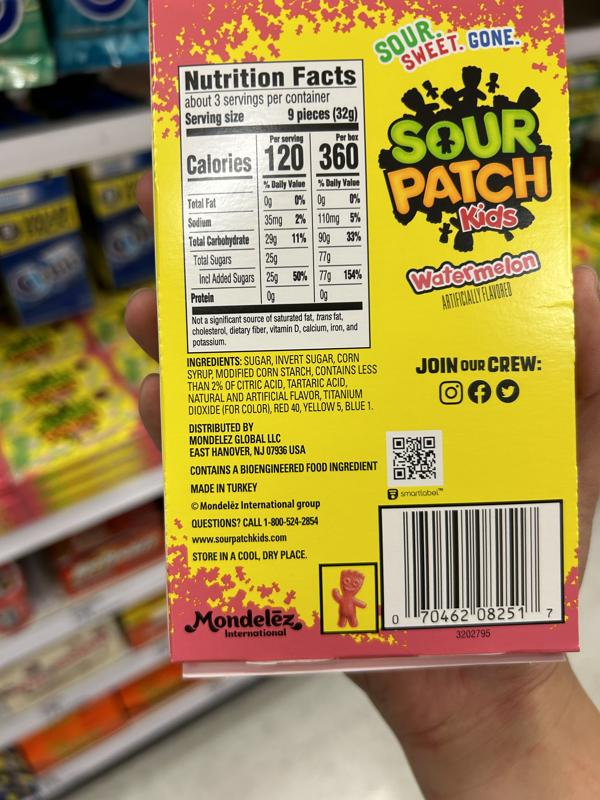ingredients: (184, 351, 379, 418)
